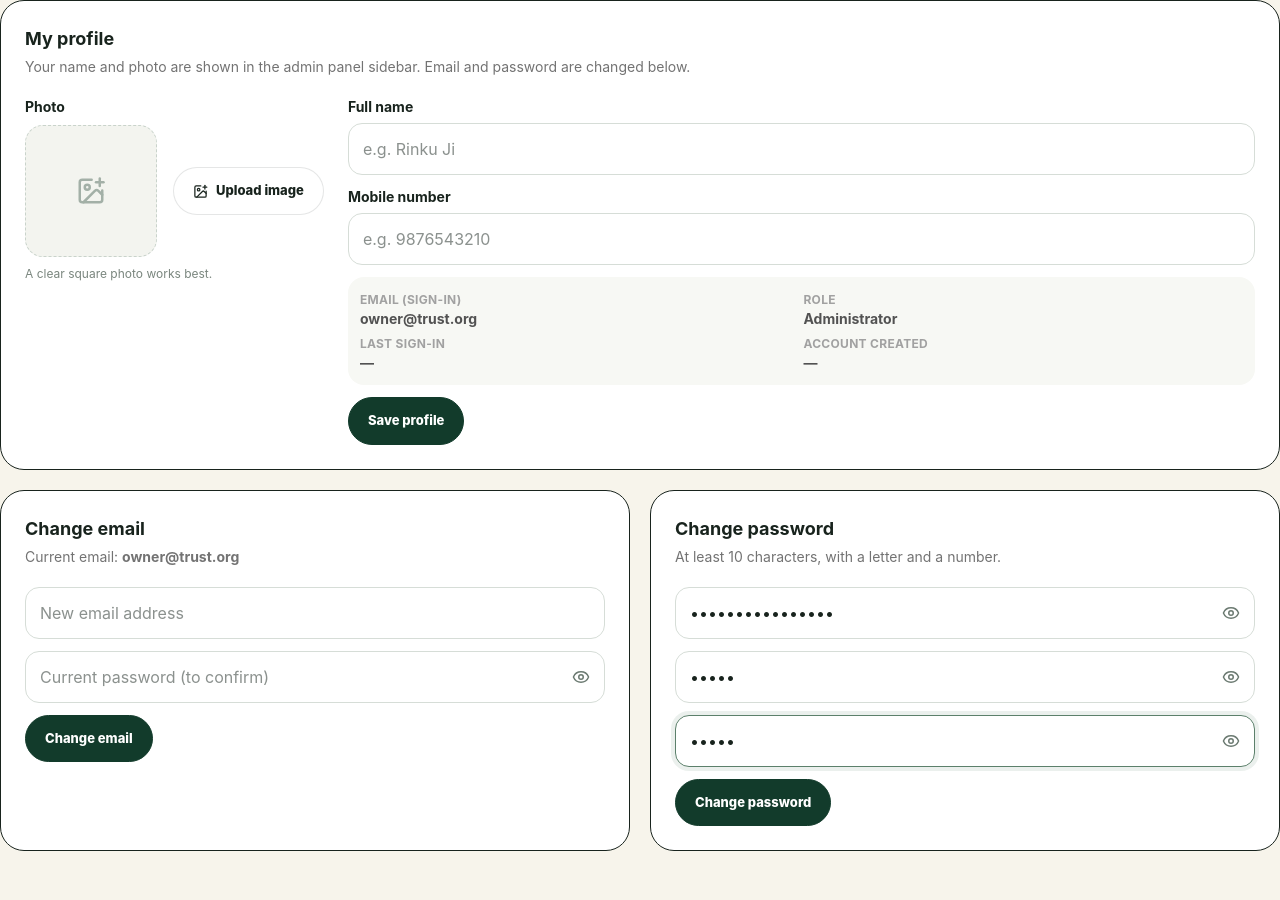
Scenario: AccountSettings › validates before calling the API, then changes password and stores the fresh token
The image size is (1280, 900).
Earlier steps of the test are not shown.
Later steps or results of the test are not shown.
Click the button "Change password" at (753, 802), box [675, 778, 831, 826]
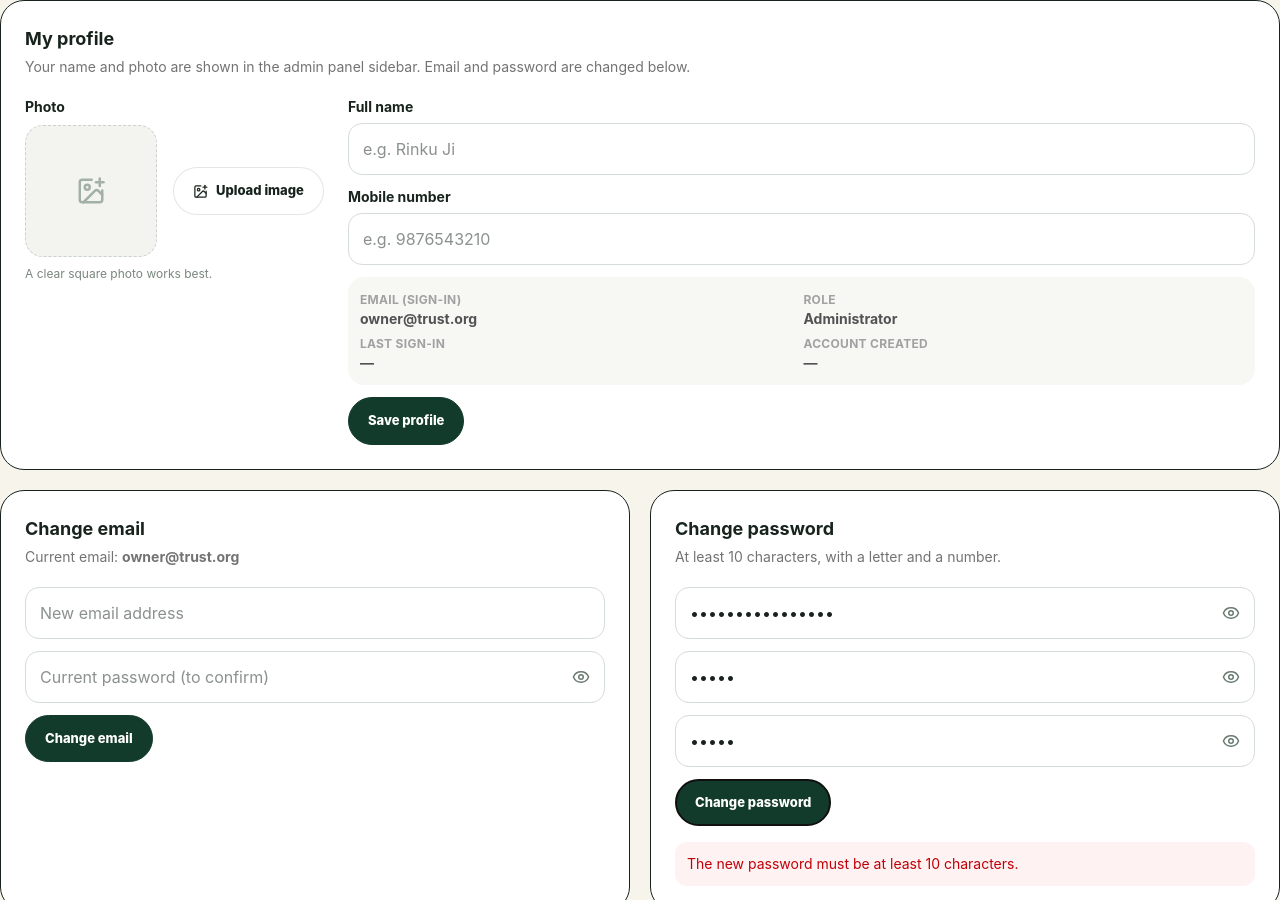
Now the message shows "10 characters", box [687, 855, 1018, 872]
Clear the 2nd password field with placeholder "New password" at (965, 676), box [675, 650, 1255, 702]
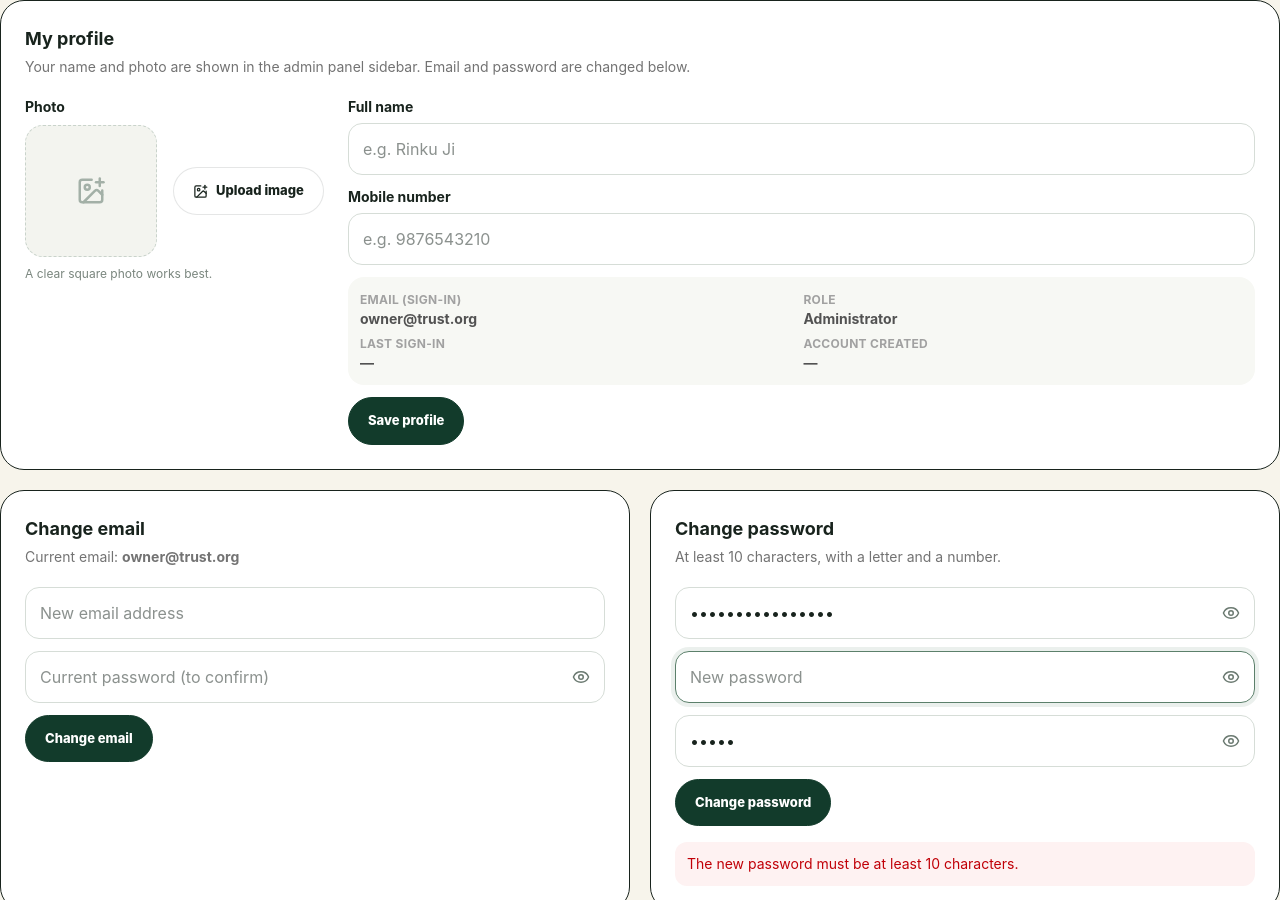
Clear the 2nd password field with placeholder "Repeat new password" at (965, 740), box [675, 714, 1255, 766]
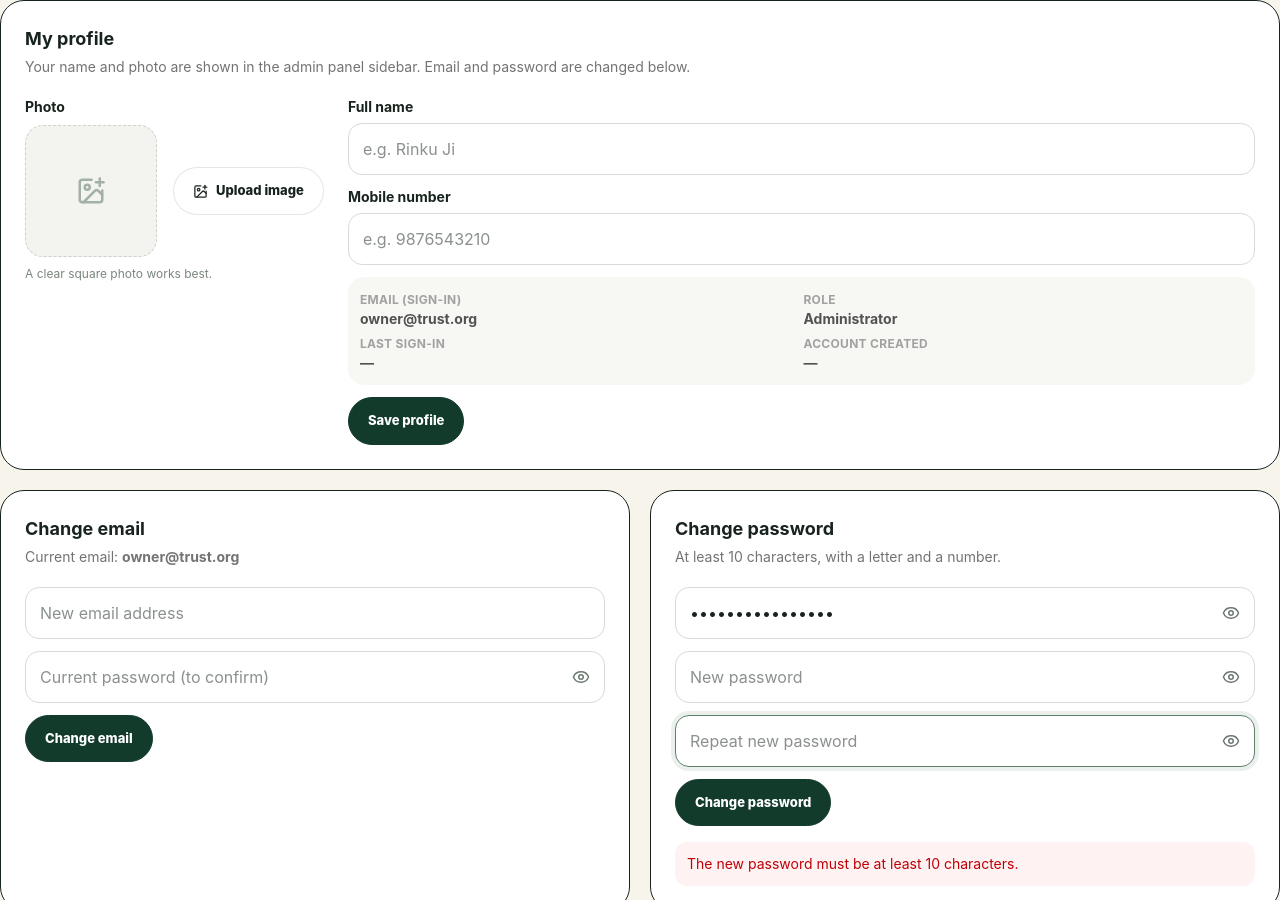
Type "Brand-new-pass-9" into the password field with placeholder "New password" at (965, 676), box [675, 650, 1255, 702]
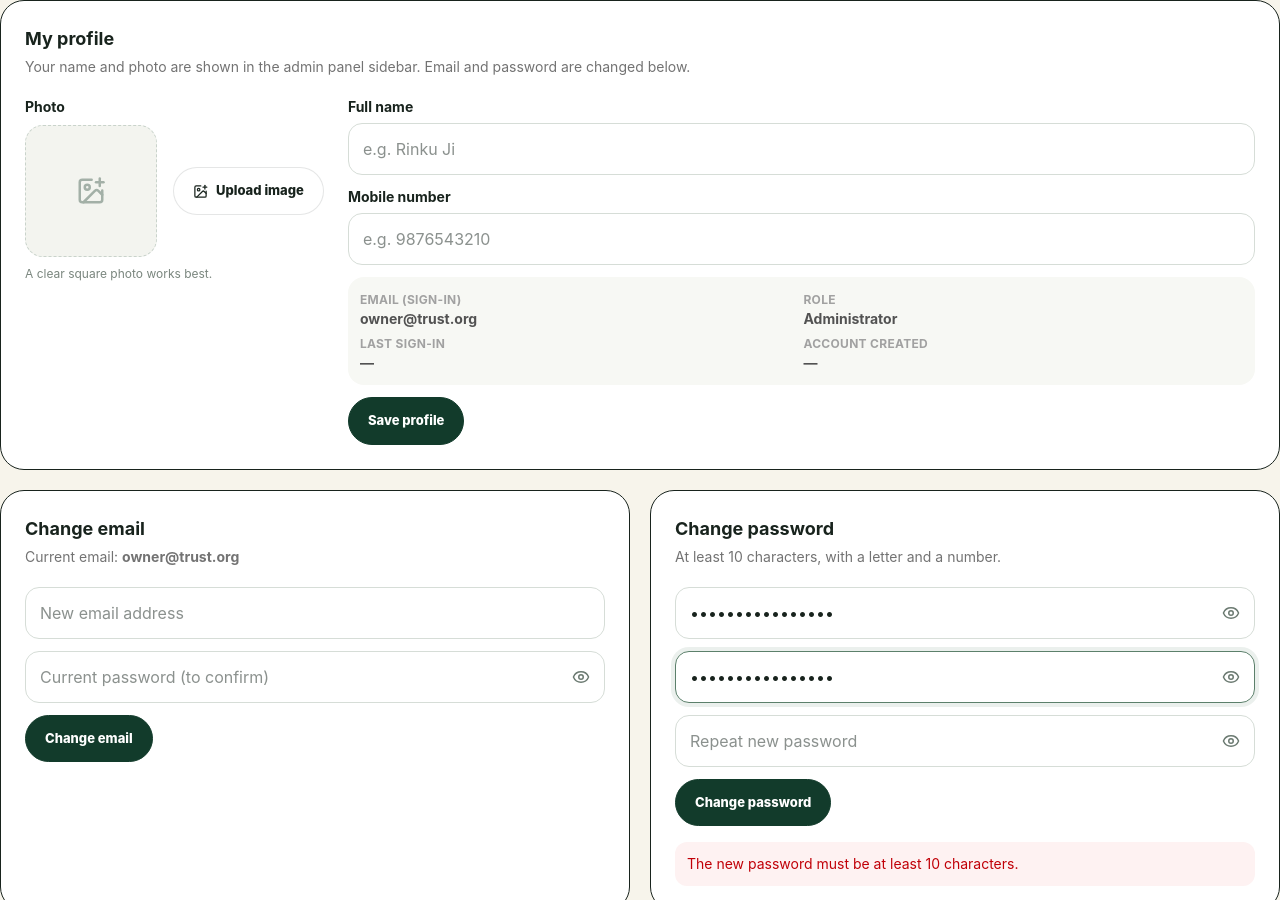
Type "Brand-new-pass-0" into the password field with placeholder "Repeat new password" at (965, 740), box [675, 714, 1255, 766]
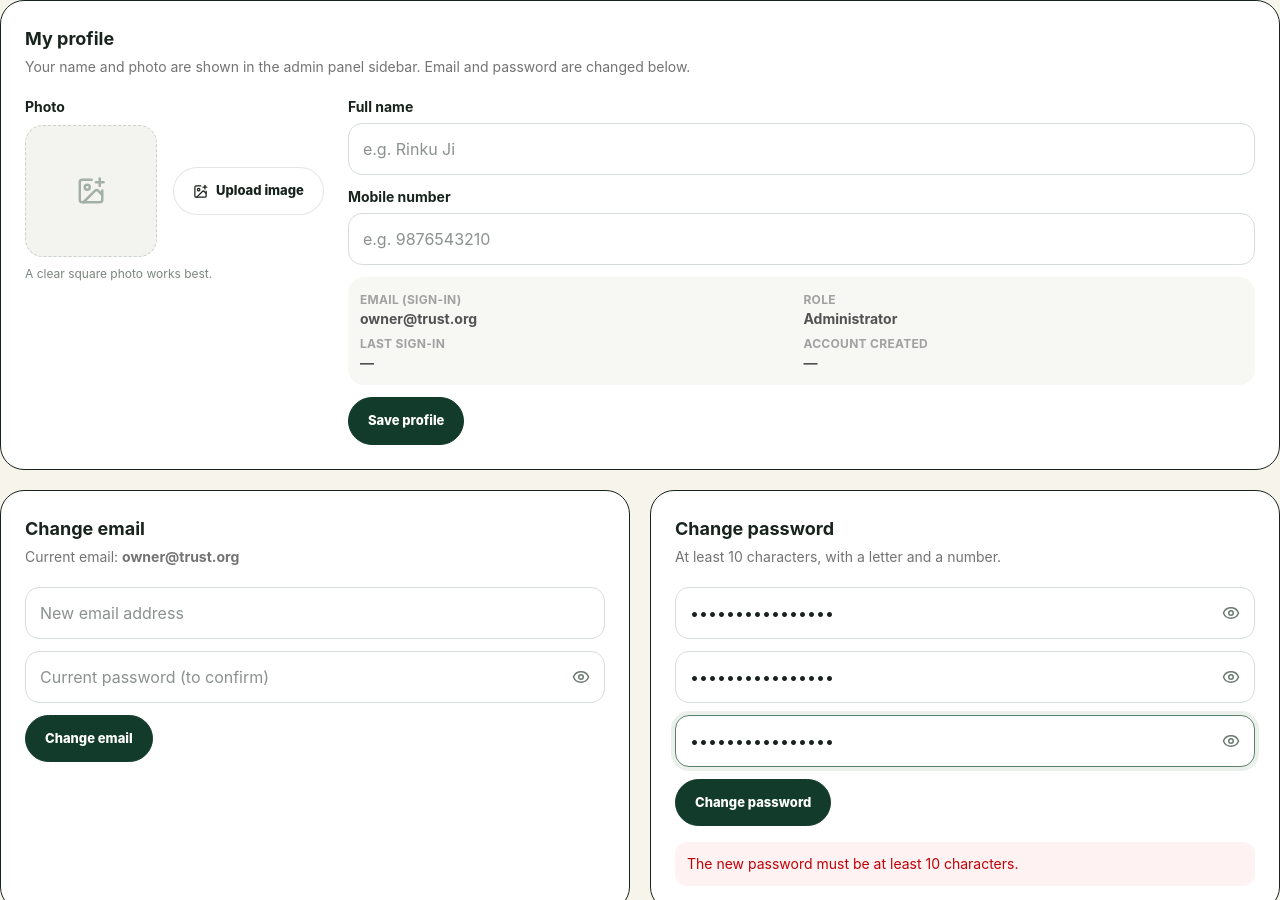
Click the button "Change password" at (753, 802), box [675, 778, 831, 826]
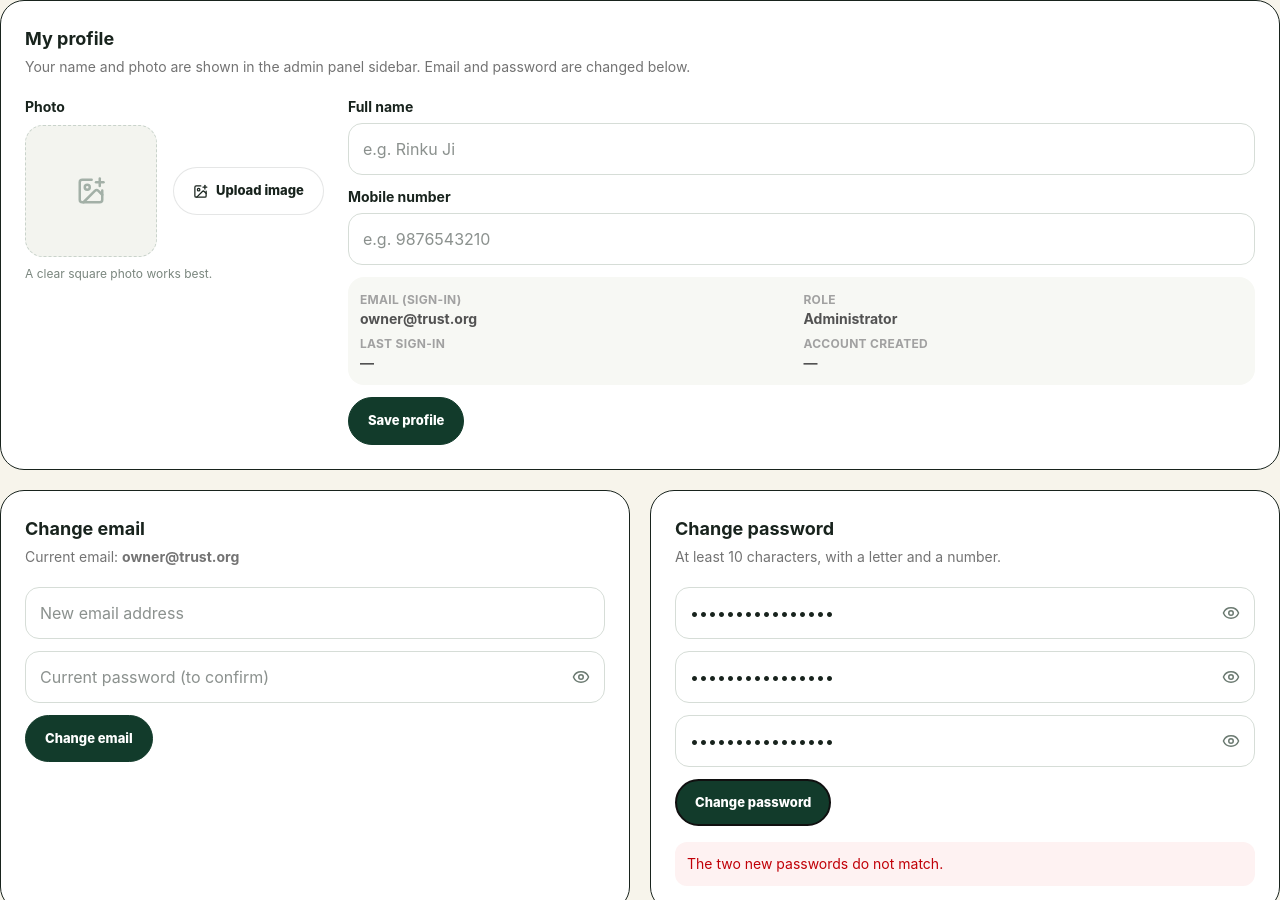
Now the message shows "do not match", box [687, 855, 943, 872]
